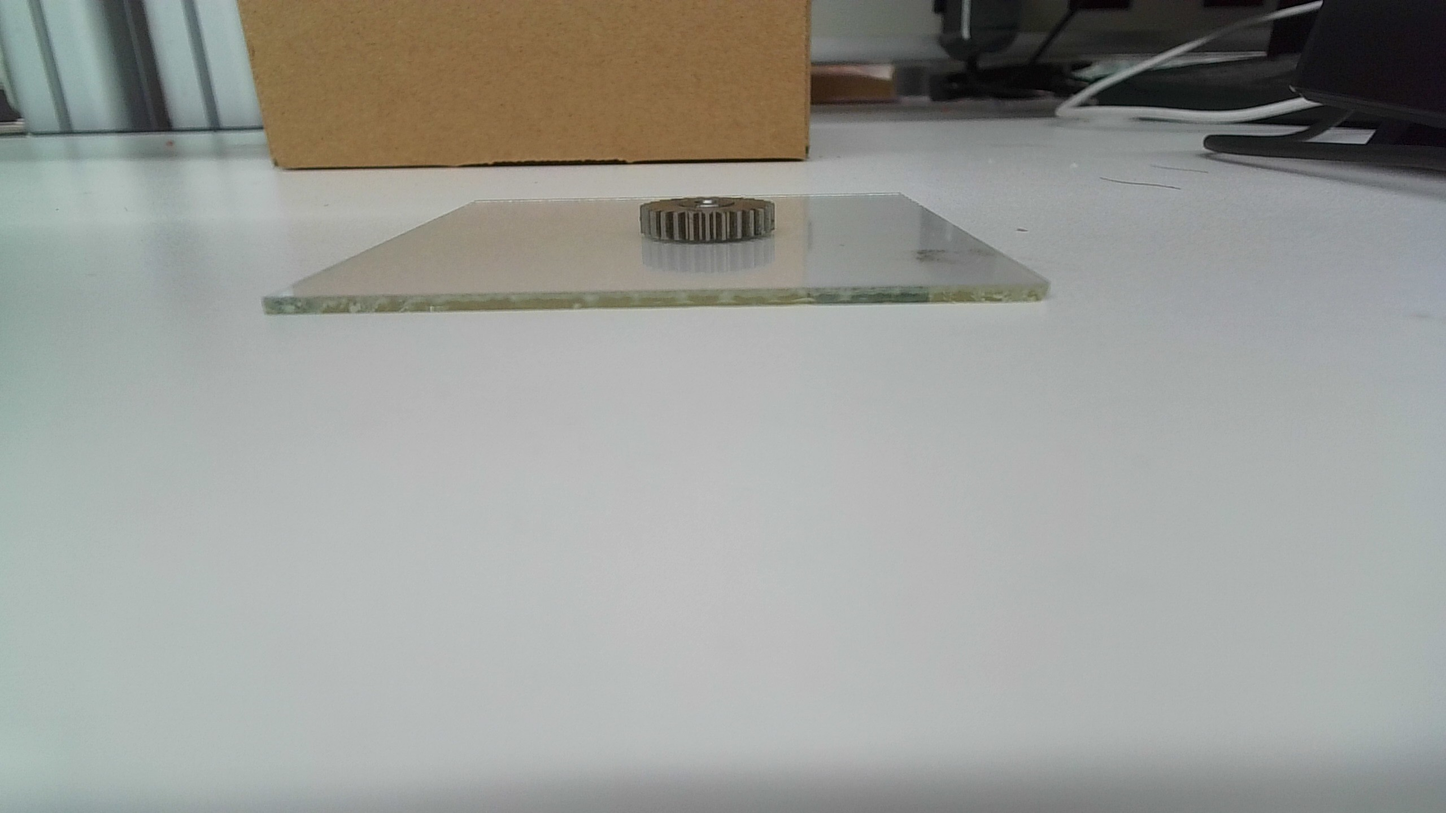gear: (636, 196, 783, 245)
